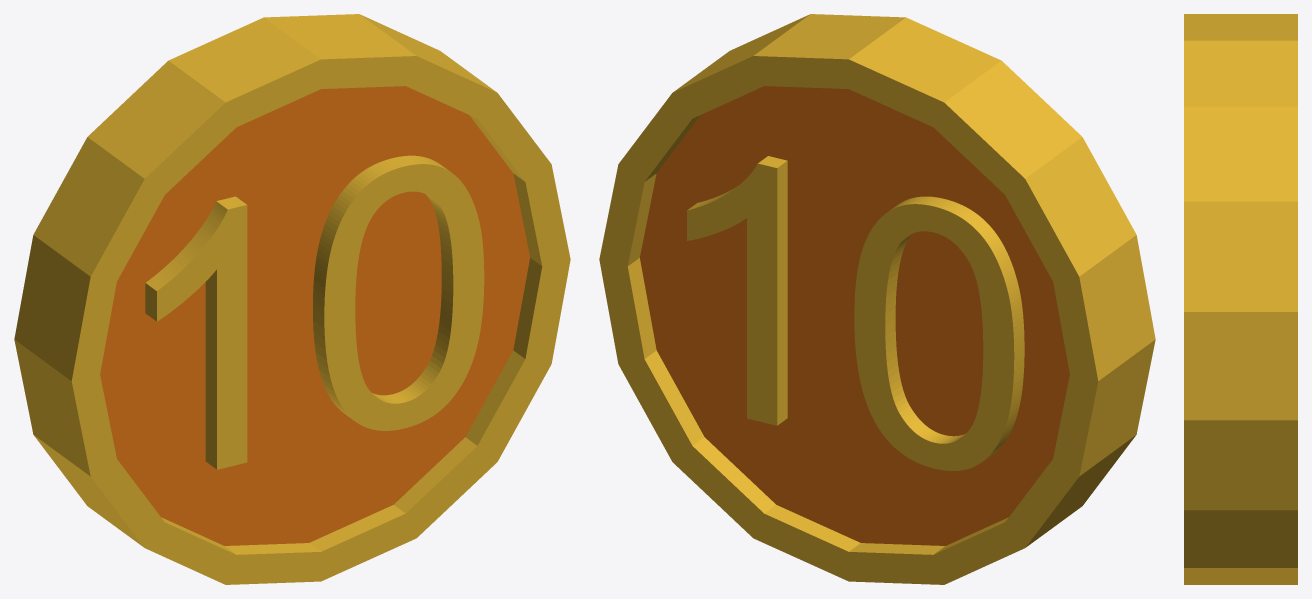
File: TenCoin.fbx
3 views of the same model, side by side, from view 1: azimuth 30°, elevation 25°; view 2: azimuth 150°, elevation 25°; view 3: azimuth 270°, elevation 25° (orthographic).
Visible parts, largest first — view 1: TenCoin; view 2: TenCoin; view 3: TenCoin.
Part boxes in pixels (x1,y1,x2,y2): TenCoin: (14,14,570,584); TenCoin: (599,14,1155,584); TenCoin: (1184,14,1297,584).
Size of the model in its own units: 84.1 by 84.1 by 16.74.
